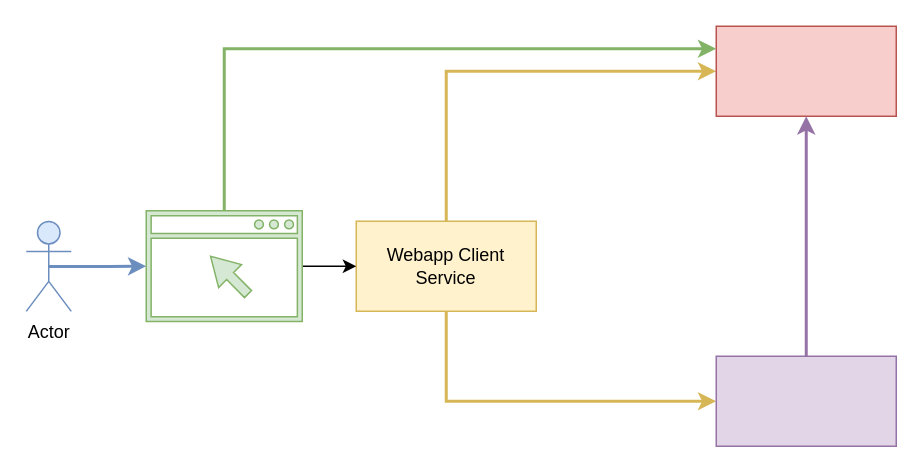
This 923x473 diagram has some shape labels left out. The centre of each missing label's shape, as x and y in pixels:
Authorisation Service: the point at 805,70
Resource Service: the point at 805,400
